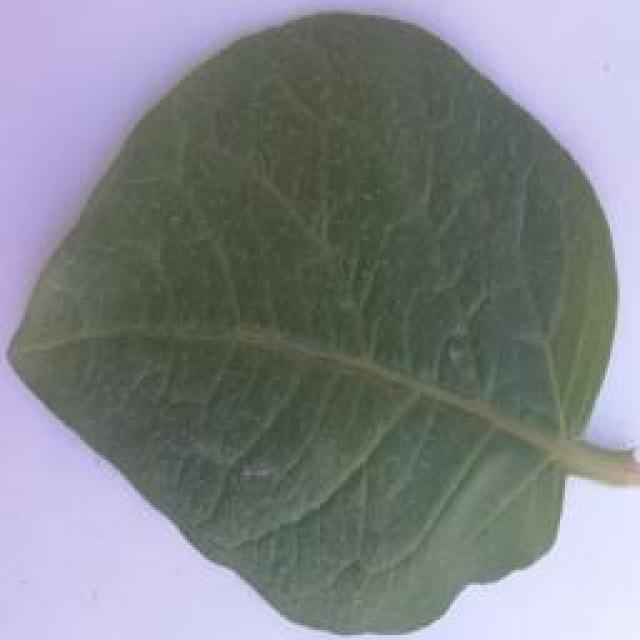Potato_Healthy: (5, 10, 621, 632)
